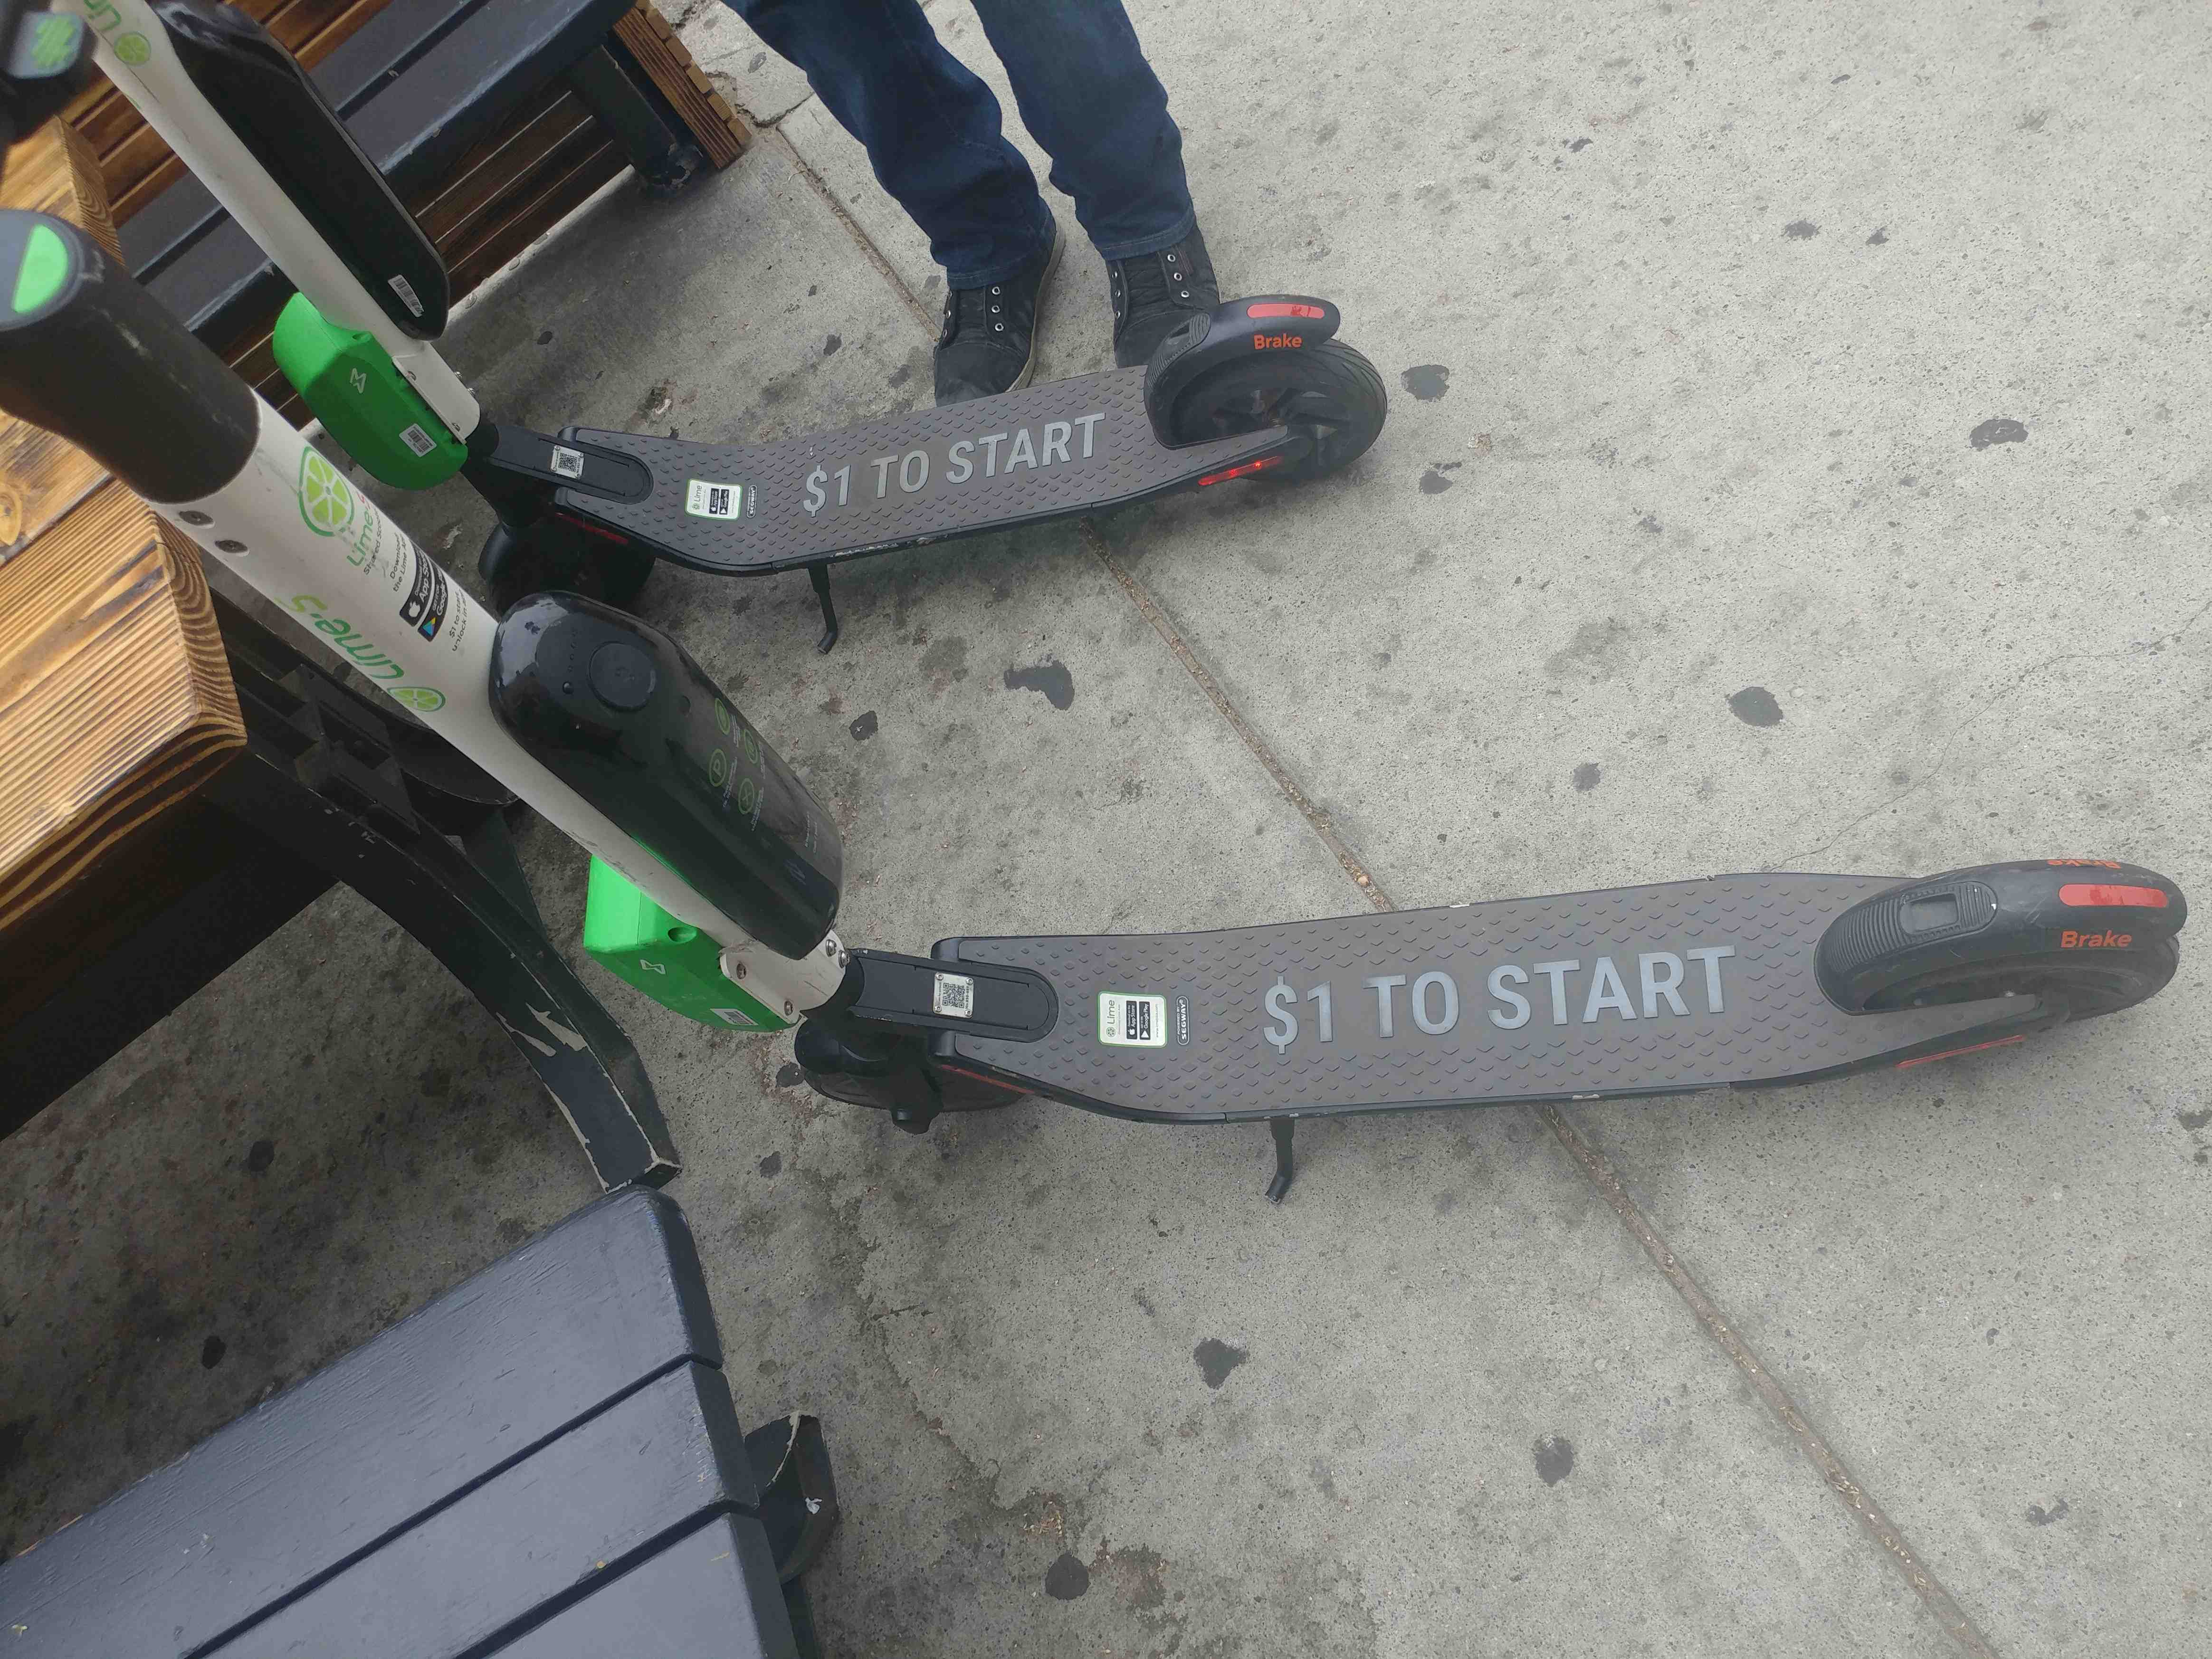scooter: (0, 218, 2212, 1141)
